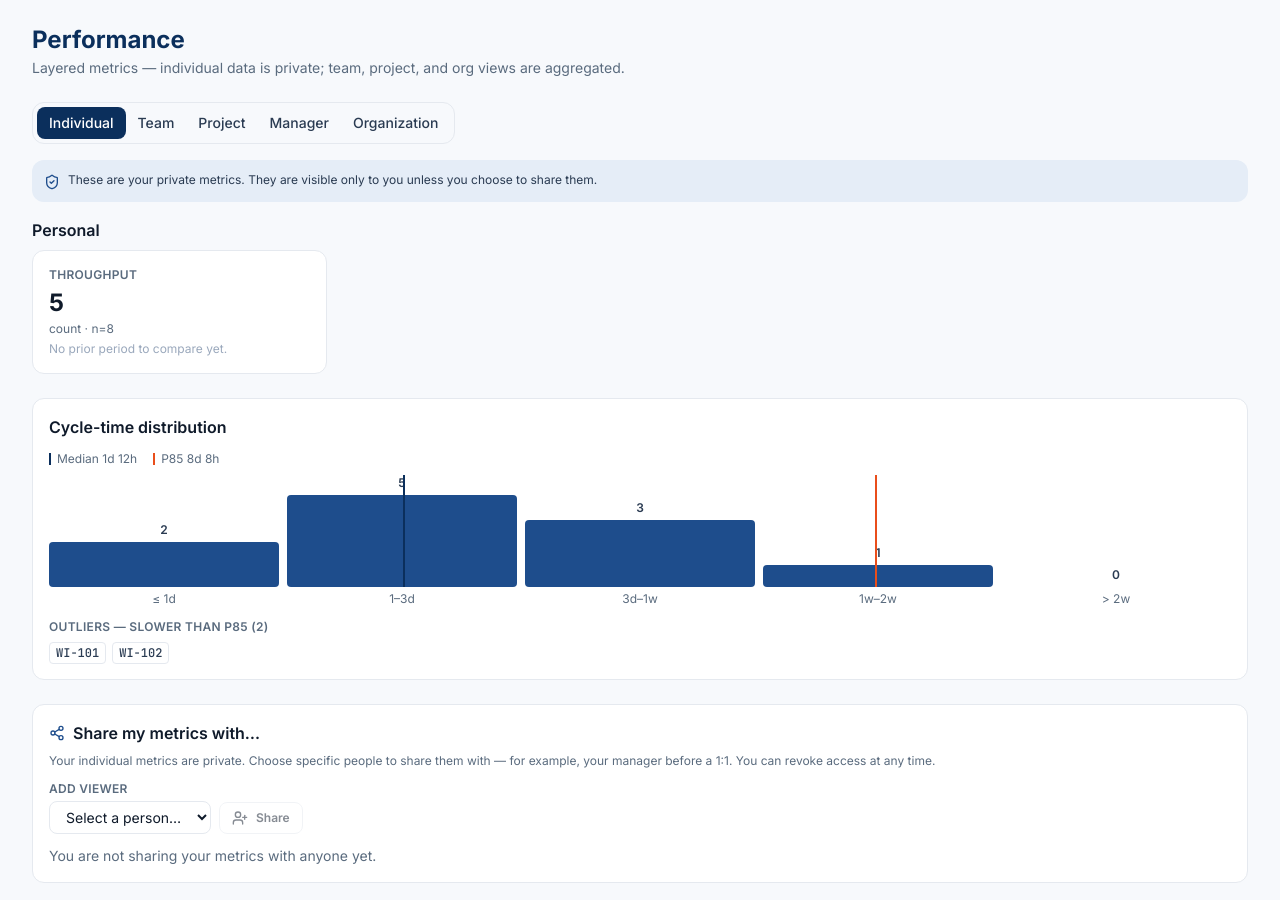
it: PerformancePanel › loads team metrics with a team selector when switching to Team
Expected: the text "Throughput" is shown, [49,267,137,283]
Click the tab "Team" at (156, 123), box [126,107,186,139]
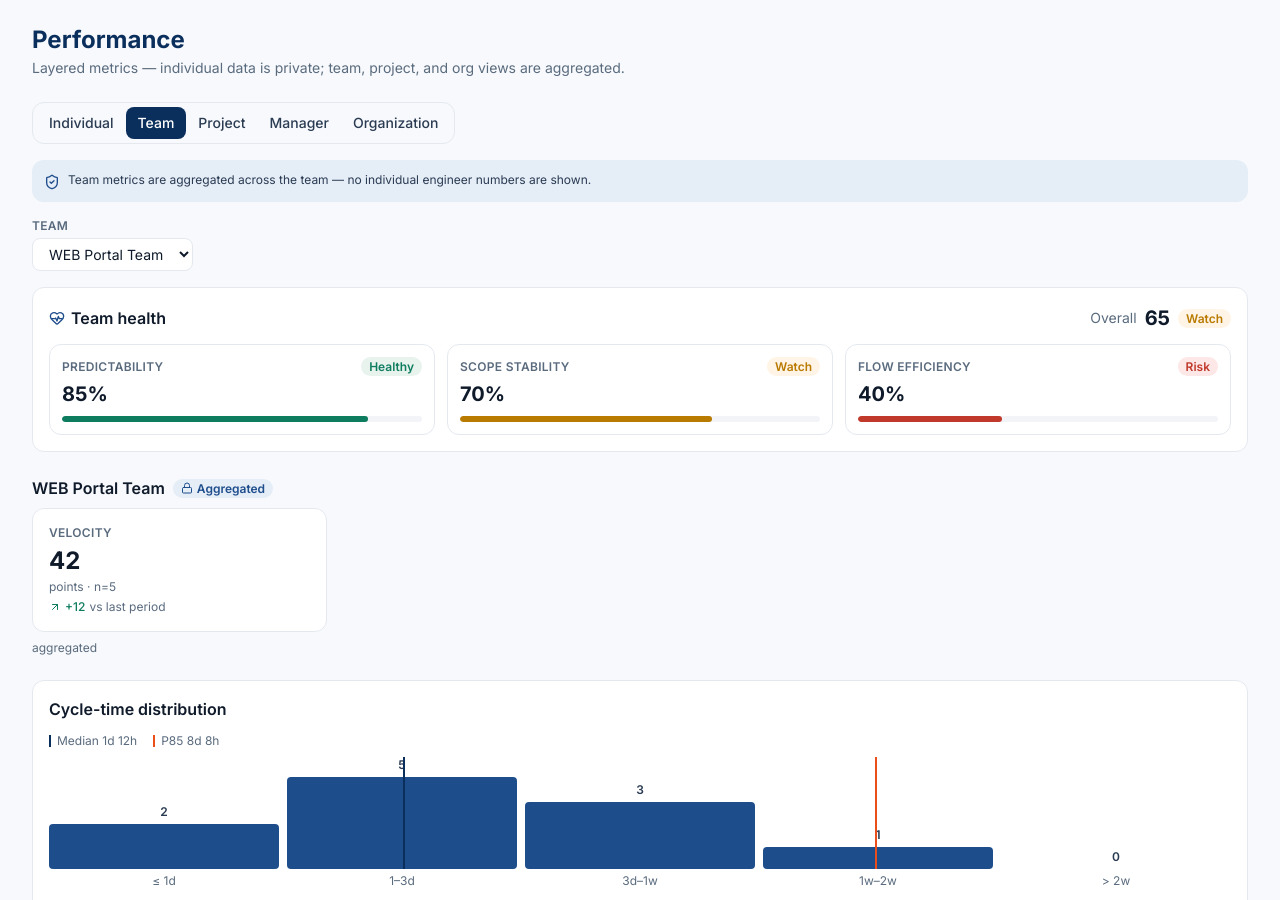
Expected: the text "Velocity" is shown, [49,525,112,541]
